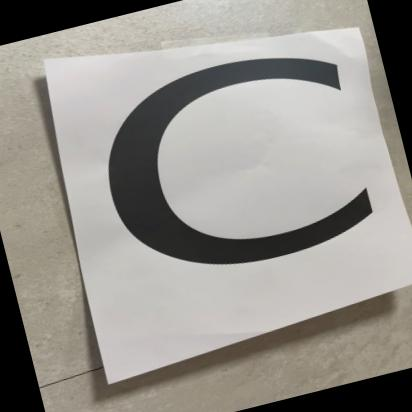seat: (11, 0, 412, 393)
